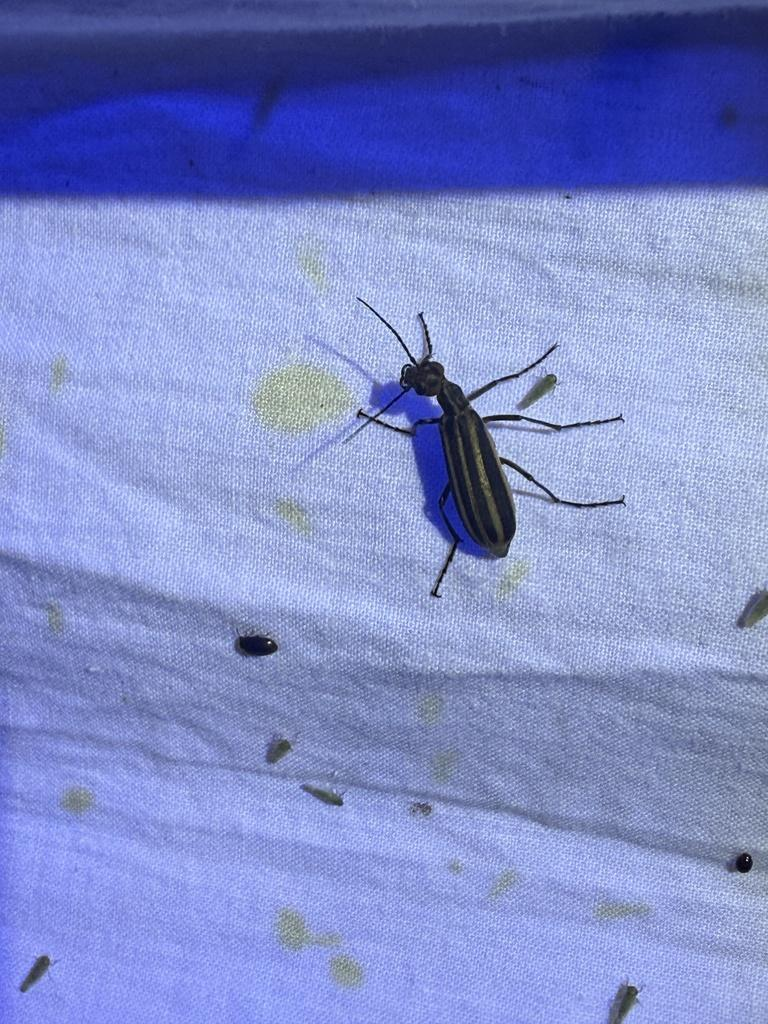blister_beetle: (264, 223, 691, 664)
